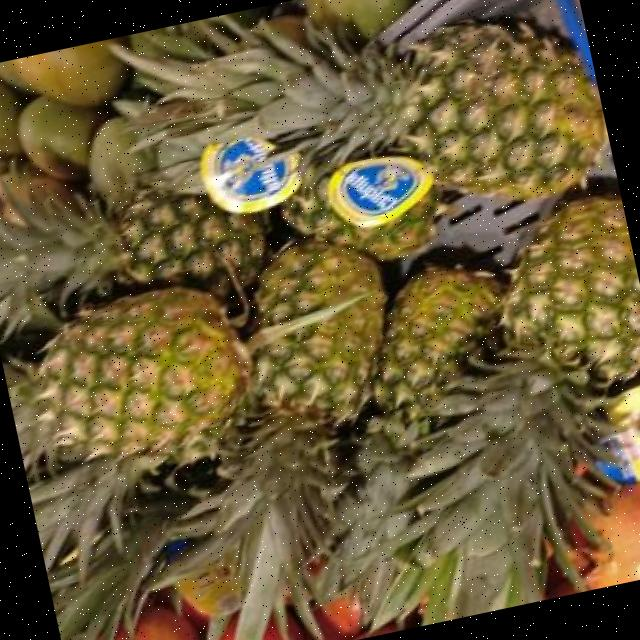pineapple: (318, 197, 640, 625), (119, 21, 603, 195), (215, 242, 385, 640), (326, 266, 506, 624), (6, 288, 365, 461), (0, 162, 266, 334), (150, 135, 437, 259)
